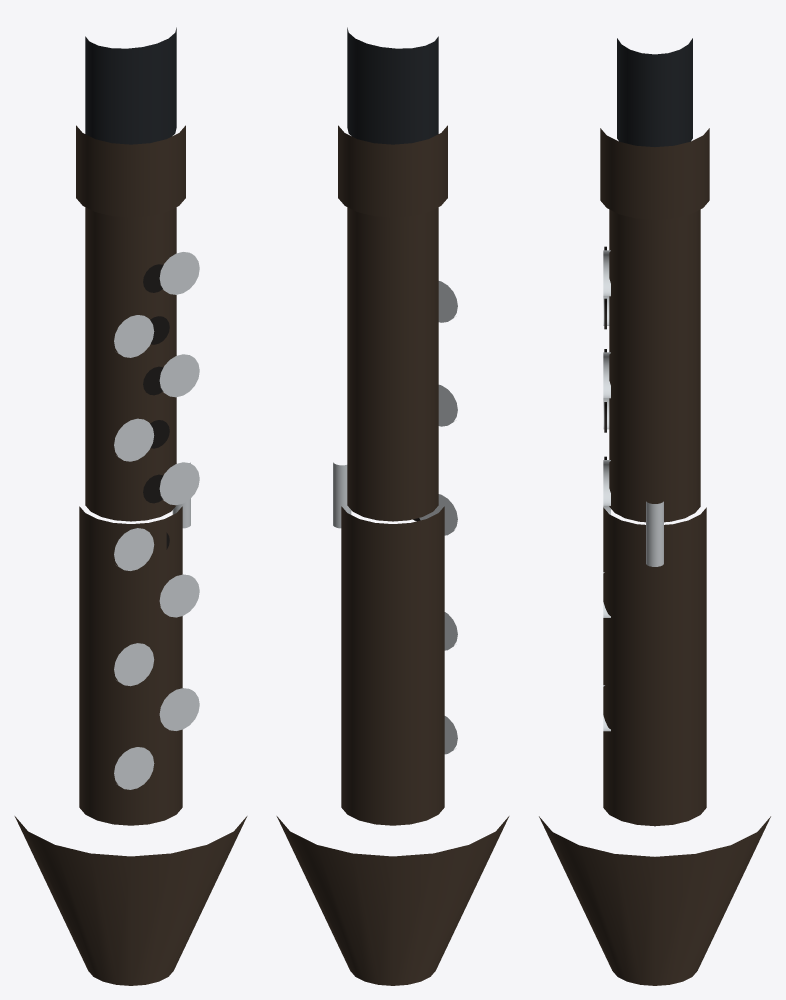
The model's file is bb-clarinet.glb.
3 renders of one model, left to right at view 1: azimuth 30°, elevation 25°; view 2: azimuth 150°, elevation 25°; view 3: azimuth 270°, elevation 25°, orthographic.
Parts seen in each view (by area): view 1: lower_joint, upper_joint, bell, mouthpiece, barrel, key__k04, key__k07, key__k03, key__k05, key__k02, key__k09, key__k10 (+3 smaller); view 2: lower_joint, upper_joint, bell, mouthpiece, barrel, bridge_key, key__k02, key__k04, key__k06; view 3: lower_joint, upper_joint, bell, barrel, mouthpiece, bridge_key.
Part boxes in pixels (bbox=[...]): lower_joint: bbox=[79, 506, 182, 825]; upper_joint: bbox=[85, 207, 176, 521]; bell: bbox=[14, 816, 247, 985]; mouthpiece: bbox=[85, 27, 176, 144]; barrel: bbox=[76, 125, 185, 217]; key__k04: bbox=[114, 418, 154, 461]; key__k07: bbox=[159, 574, 199, 617]; key__k03: bbox=[159, 354, 199, 397]; key__k05: bbox=[159, 462, 199, 505]; key__k02: bbox=[114, 315, 154, 357]; key__k09: bbox=[159, 688, 199, 730]; key__k10: bbox=[114, 747, 154, 789]; lower_joint: bbox=[341, 506, 444, 825]; upper_joint: bbox=[347, 207, 438, 521]; bell: bbox=[276, 816, 509, 985]; mouthpiece: bbox=[347, 27, 438, 144]; barrel: bbox=[338, 125, 447, 217]; bridge_key: bbox=[333, 462, 351, 528]; key__k02: bbox=[438, 281, 457, 322]; key__k04: bbox=[438, 384, 457, 426]; key__k06: bbox=[419, 494, 457, 535]; lower_joint: bbox=[603, 507, 706, 826]; upper_joint: bbox=[609, 209, 700, 522]; bell: bbox=[539, 816, 770, 985]; barrel: bbox=[600, 128, 709, 219]; mouthpiece: bbox=[617, 38, 692, 146]; bridge_key: bbox=[646, 501, 663, 566].
Bounding box in the file's own units: 1.53 × 6.67 × 1.51.
